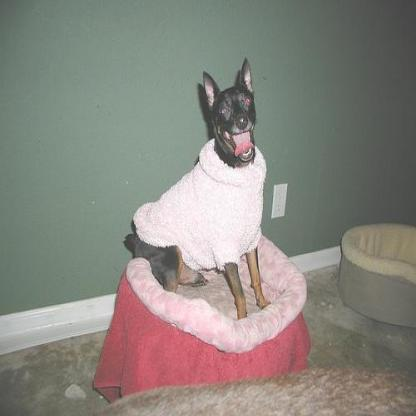miniature_pinscher: (121, 54, 272, 322)
